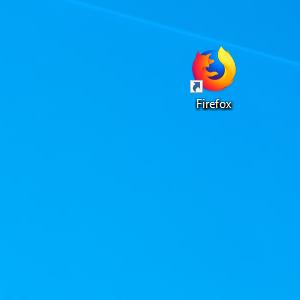firefox: (190, 44, 237, 93)
